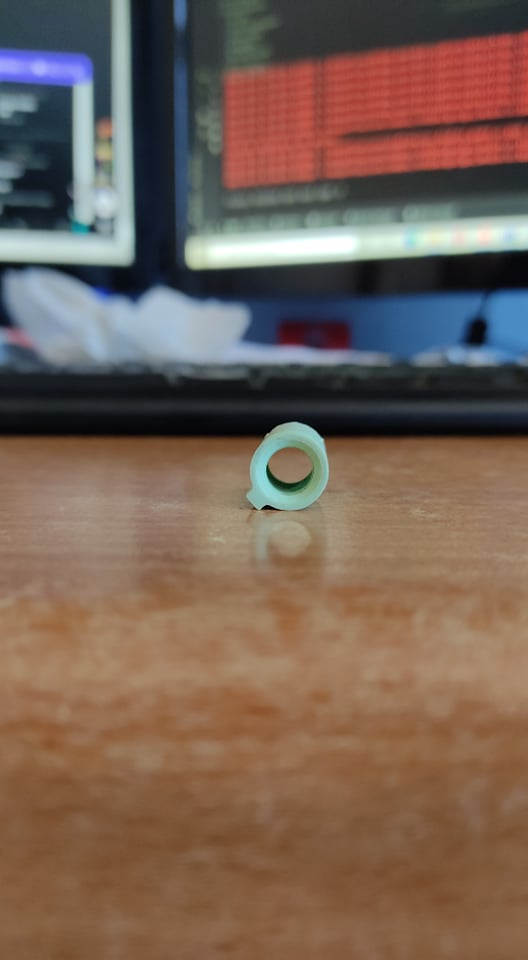green_bucking: (232, 412, 341, 522)
